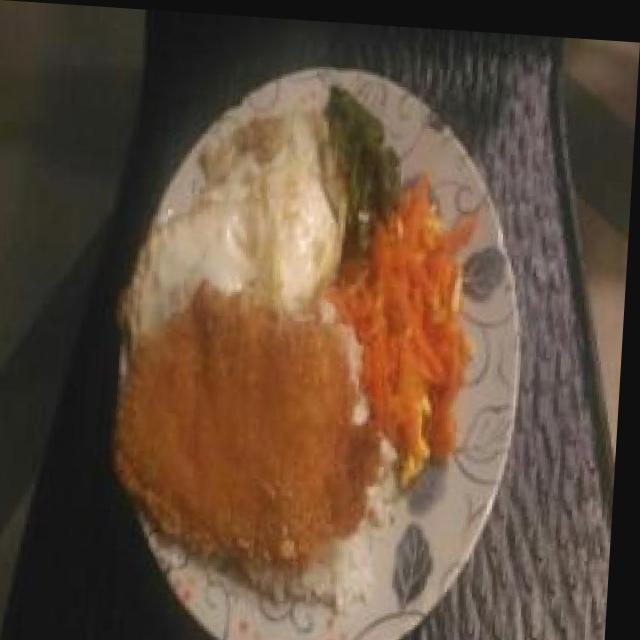carrot_eggs: (348, 167, 474, 453)
fried_chicken: (118, 274, 394, 566)
fried_eggs: (137, 101, 349, 306)
rice: (316, 526, 382, 604)
